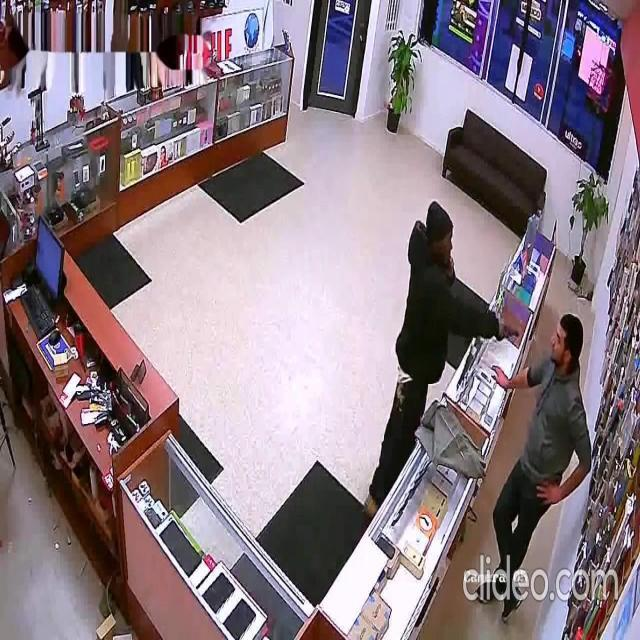pistol: (504, 321, 520, 342)
